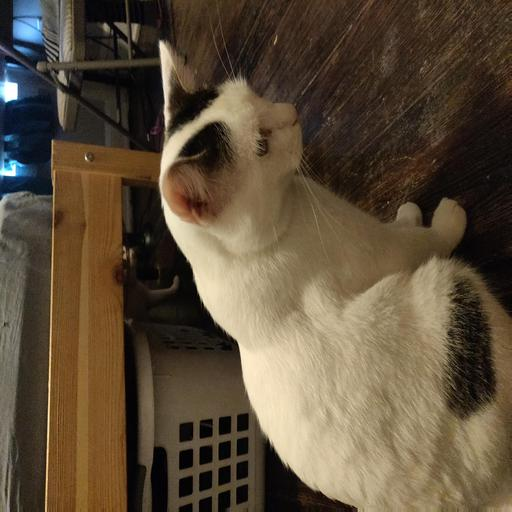cat: (153, 67, 503, 417)
